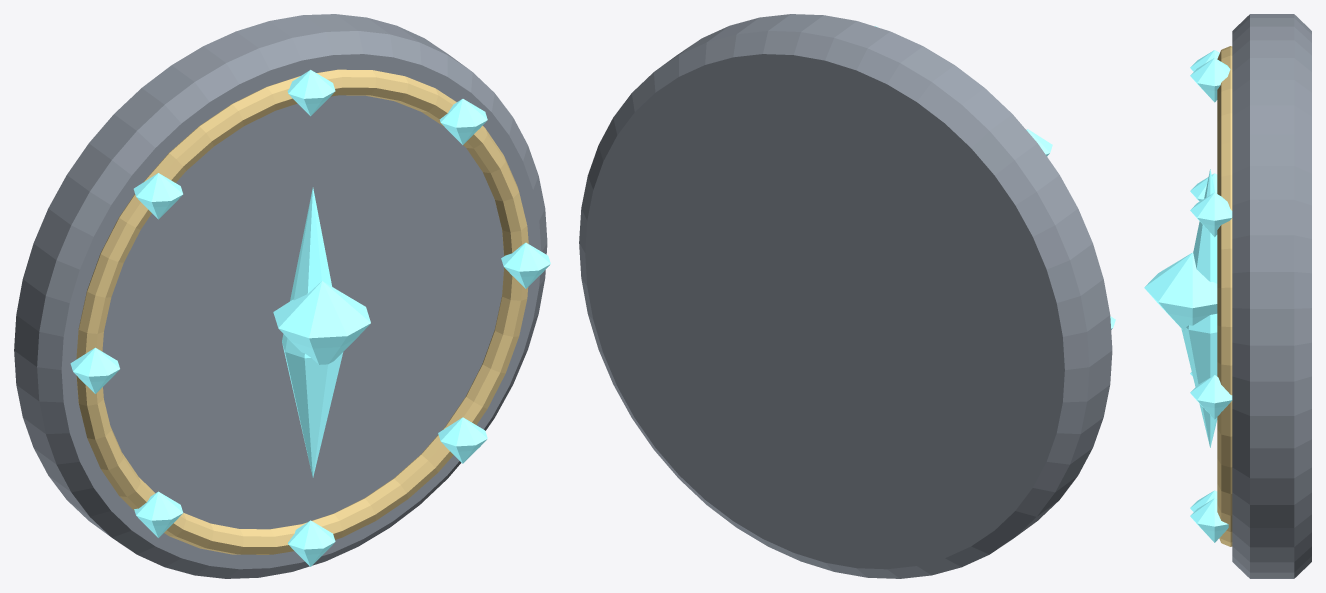
The model's file is quin_relic.gltf.
3 views of the same model, side by side, from view 1: azimuth 30°, elevation 25°; view 2: azimuth 150°, elevation 25°; view 3: azimuth 270°, elevation 25° (orthographic). The views are drawn at different scales.
Visible parts, largest first — view 1: quin_compass_relic_review; view 2: quin_compass_relic_review; view 3: quin_compass_relic_review.
Boxes of the visible parts, box(x1,y1,x2,y2) form: quin_compass_relic_review: box(14, 14, 550, 578); quin_compass_relic_review: box(579, 14, 1115, 578); quin_compass_relic_review: box(1144, 14, 1311, 578).
Bounding box in the file's own units: 0.64 × 0.64 × 0.19.
